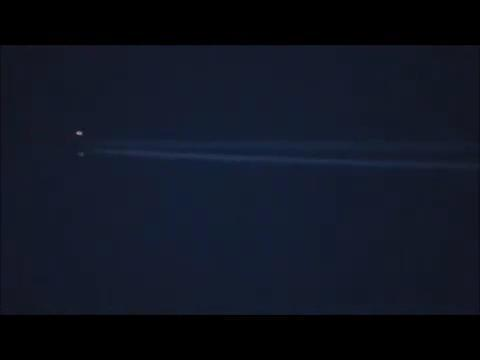Plane: (38, 126, 372, 171)
